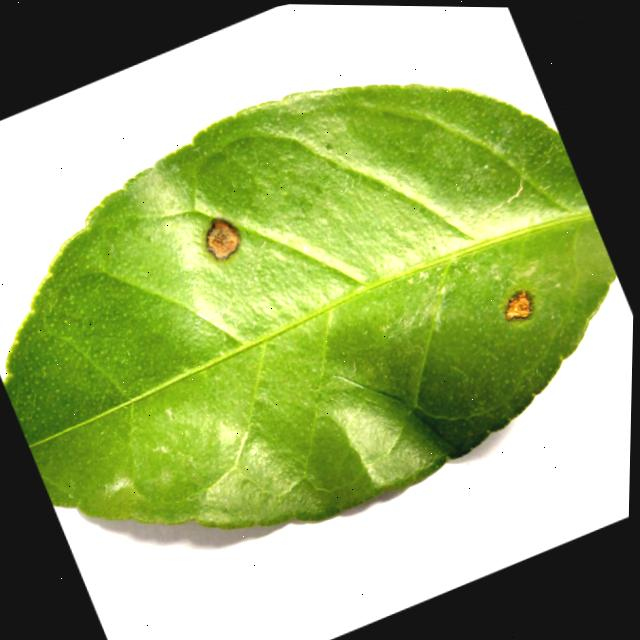antracnose: (5, 85, 615, 528), (206, 220, 239, 259), (506, 291, 530, 320)
